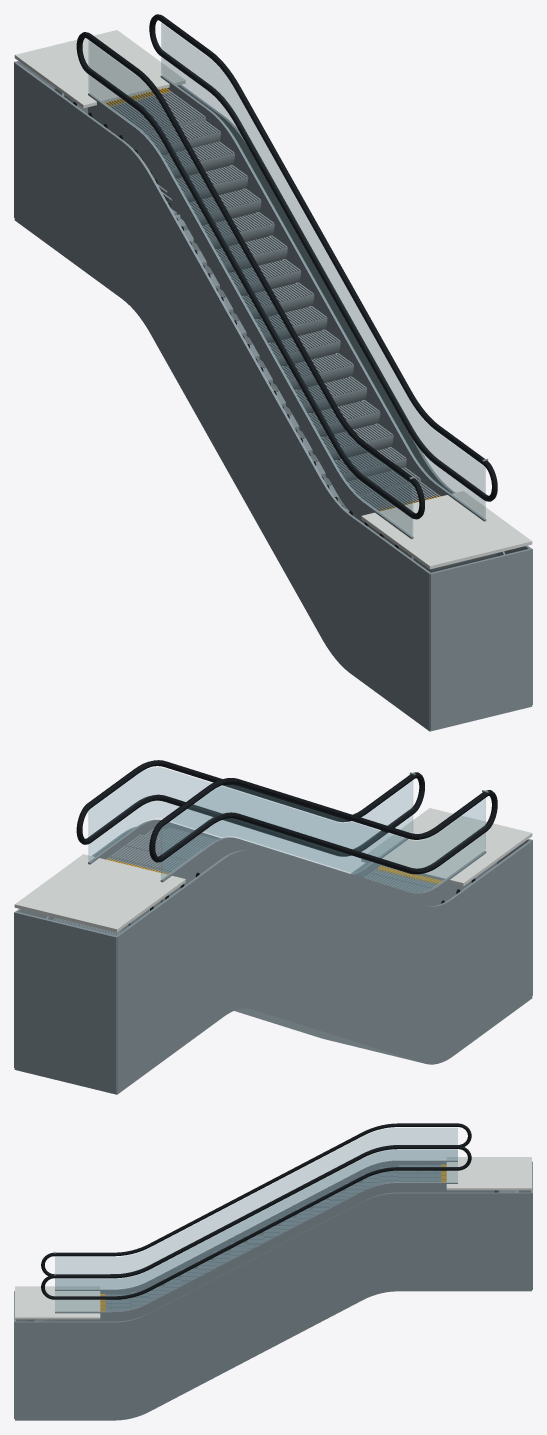
Rendered from edited.glb.
The picture shows the model from 3 angles, top to bottom: view 1: azimuth 30°, elevation 25°; view 2: azimuth 150°, elevation 25°; view 3: azimuth 270°, elevation 25°; orthographic projection. The views are drawn at different scales.
Visible parts, largest first — view 1: TRUSS_L, TRUSS_End_Lower, GUARD_L, GUARD_R, SKIRT_L, HANDRAIL_R, HANDRAIL_L, LANDING_Lower, LANDING_Upper, SKIRT_R, TRUSS_R, TRUSS_Bottom (+17 smaller); view 2: TRUSS_L, TRUSS_End_Upper, GUARD_L, GUARD_R, LANDING_Upper, LANDING_Lower, HANDRAIL_L, HANDRAIL_R, SKIRT_L, TRUSS_Bottom, SKIRT_R, STEP_BODY_21 (+5 smaller); view 3: TRUSS_R, GUARD_R, GUARD_L, SKIRT_R, HANDRAIL_R, LANDING_Upper, LANDING_Lower, SKIRT_L, HANDRAIL_L, TRUSS_Bottom.
Part boxes in pixels (box(x1,y1,x2,y2)): TRUSS_L: box(14, 63, 430, 728); TRUSS_End_Lower: box(429, 548, 532, 729); GUARD_L: box(88, 41, 412, 535); GUARD_R: box(161, 23, 485, 517); SKIRT_L: box(88, 93, 413, 559); HANDRAIL_R: box(149, 14, 497, 501); HANDRAIL_L: box(76, 32, 424, 519); LANDING_Lower: box(361, 491, 532, 569); LANDING_Upper: box(14, 30, 185, 108); SKIRT_R: box(160, 75, 486, 521); TRUSS_R: box(138, 85, 530, 561); TRUSS_Bottom: box(14, 218, 532, 731); TRUSS_L: box(116, 841, 532, 1091); TRUSS_End_Upper: box(14, 911, 117, 1092); GUARD_L: box(161, 785, 485, 891); GUARD_R: box(88, 767, 412, 873); LANDING_Upper: box(14, 854, 185, 932); LANDING_Lower: box(361, 808, 532, 886); HANDRAIL_L: box(149, 778, 497, 874); HANDRAIL_R: box(76, 760, 424, 856); SKIRT_L: box(160, 837, 486, 906); TRUSS_Bottom: box(14, 996, 532, 1094); SKIRT_R: box(88, 819, 413, 877); STEP_BODY_21: box(110, 845, 186, 871); TRUSS_R: box(15, 1192, 531, 1418); GUARD_R: box(55, 1150, 457, 1310); GUARD_L: box(55, 1128, 457, 1288); SKIRT_R: box(55, 1182, 457, 1321); HANDRAIL_R: box(41, 1145, 471, 1299); LANDING_Upper: box(446, 1157, 531, 1190); LANDING_Lower: box(15, 1286, 100, 1319); SKIRT_L: box(55, 1160, 457, 1303); HANDRAIL_L: box(41, 1123, 471, 1275); TRUSS_Bottom: box(15, 1289, 531, 1420).
Bounding box in the file's own units: 1.55 × 6.28 × 10.92.
